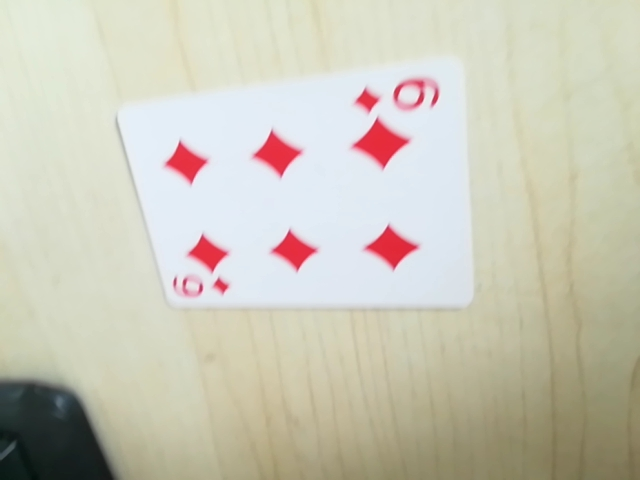fk 6: (353, 68, 449, 123), (169, 268, 230, 306)
